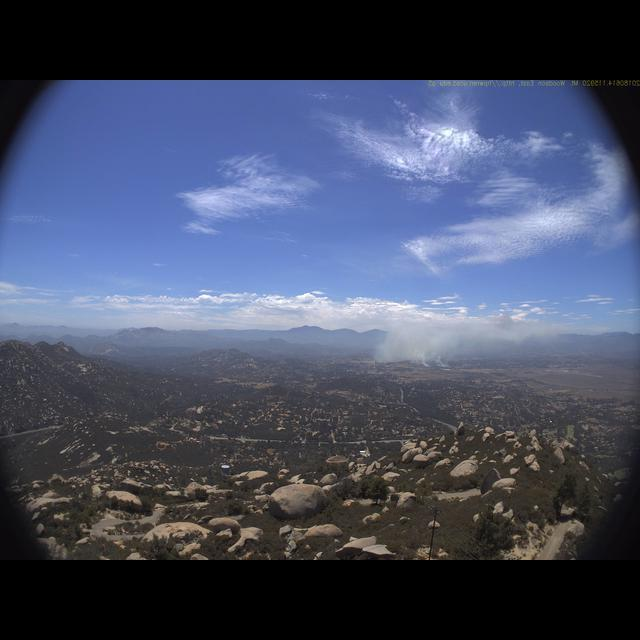Smoke: (369, 304, 543, 368)
